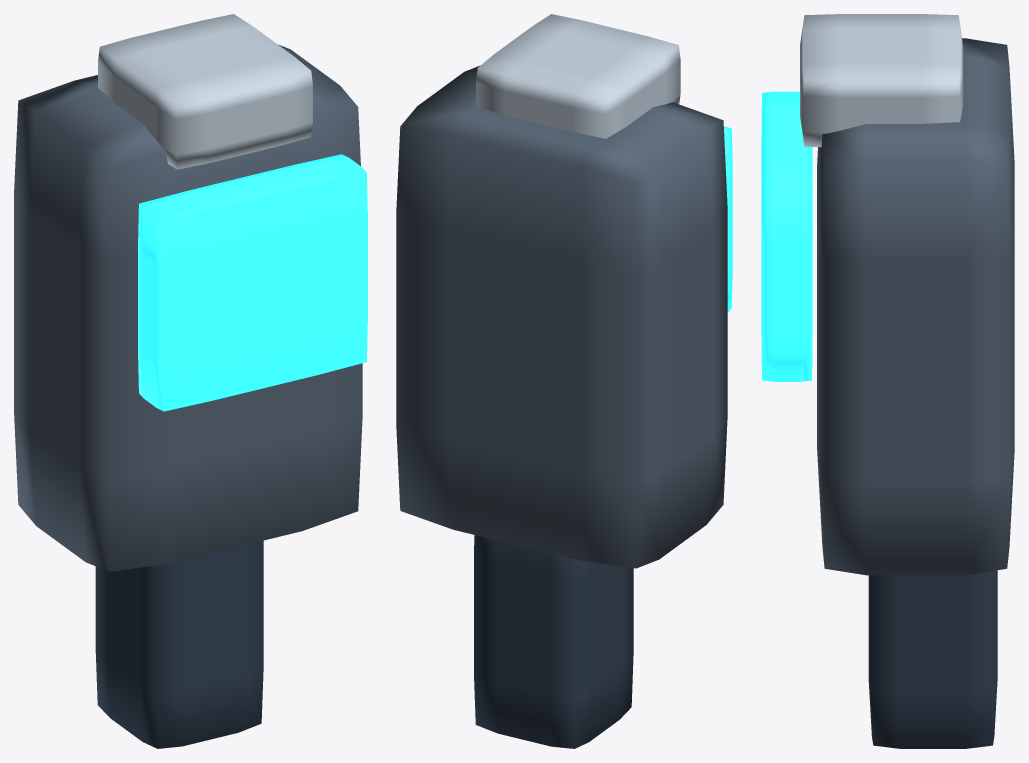
The model's file is scanner-prisma.glb.
3 renders of one model, left to right at view 1: azimuth 30°, elevation 25°; view 2: azimuth 150°, elevation 25°; view 3: azimuth 270°, elevation 25°, orthographic. The views are drawn at different scales.
Visible parts, largest first — view 1: Body, Screen, Grip, Emitter; view 2: Body, Grip, Emitter, Screen; view 3: Body, Grip, Emitter, Screen.
Part boxes in pixels (x1,y1,x2,y2): Body: [14, 44, 362, 571]; Screen: [138, 154, 367, 411]; Grip: [95, 540, 263, 748]; Emitter: [98, 14, 312, 169]; Body: [396, 65, 727, 568]; Grip: [474, 535, 633, 748]; Emitter: [476, 14, 680, 138]; Screen: [724, 126, 732, 312]; Body: [817, 38, 1014, 575]; Grip: [868, 570, 997, 748]; Emitter: [800, 14, 963, 147]; Screen: [761, 91, 812, 381].
Bounding box in the file's own units: 0.72 × 1.75 × 0.59.
